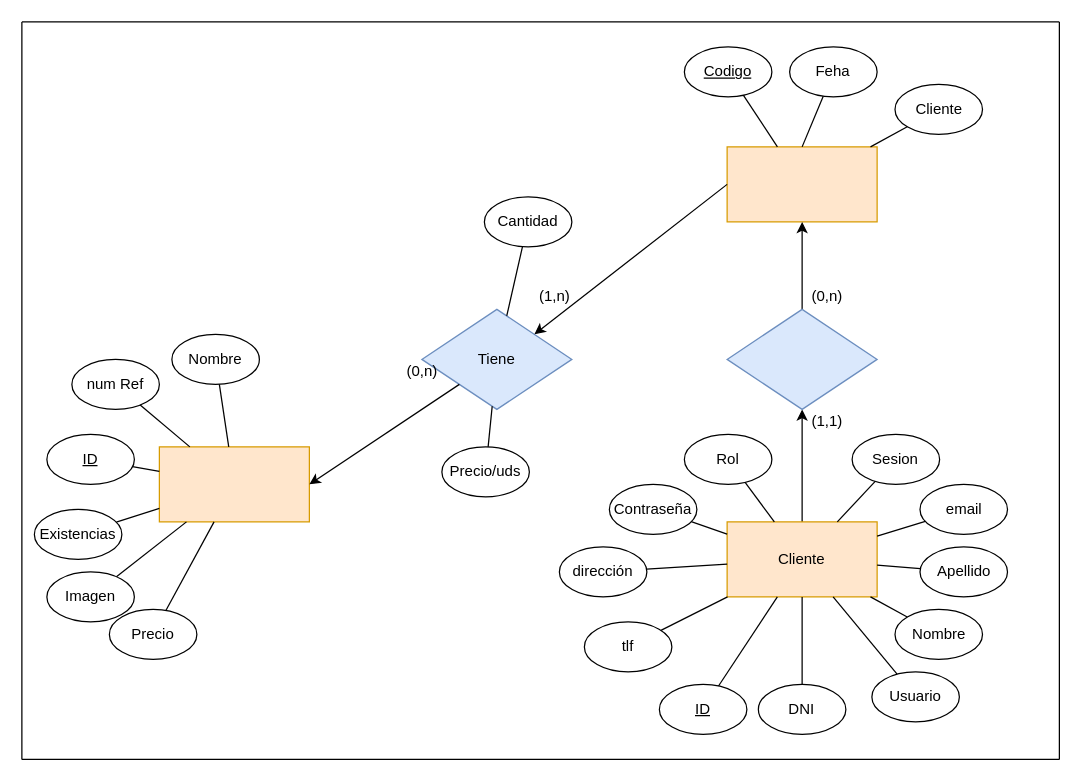
Some shapes in this 1083 by 783 pixel diagram are drawn without their labels. Here are the shapes that lost their labels. From the top down, the centre of each, then its label:
At (x=801, y=184): "Venta".
At (x=801, y=358): "Compra".
At (x=233, y=484): "Producto".
